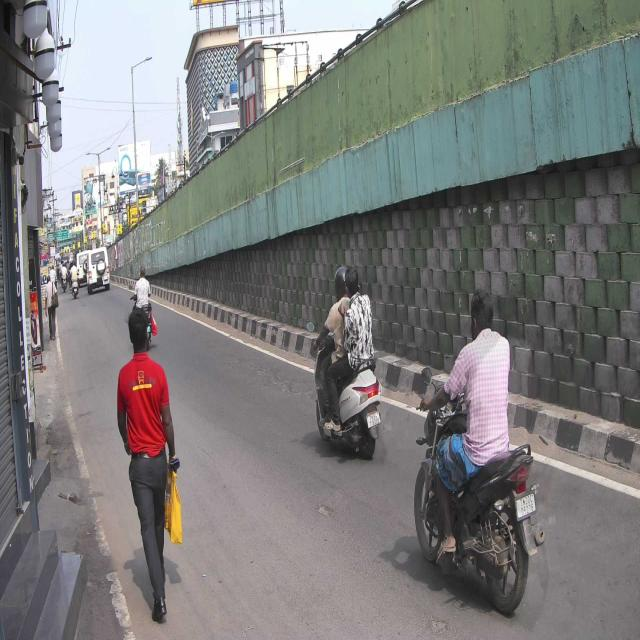double_rider: (306, 262, 383, 460)
single_rider: (414, 282, 546, 617)
